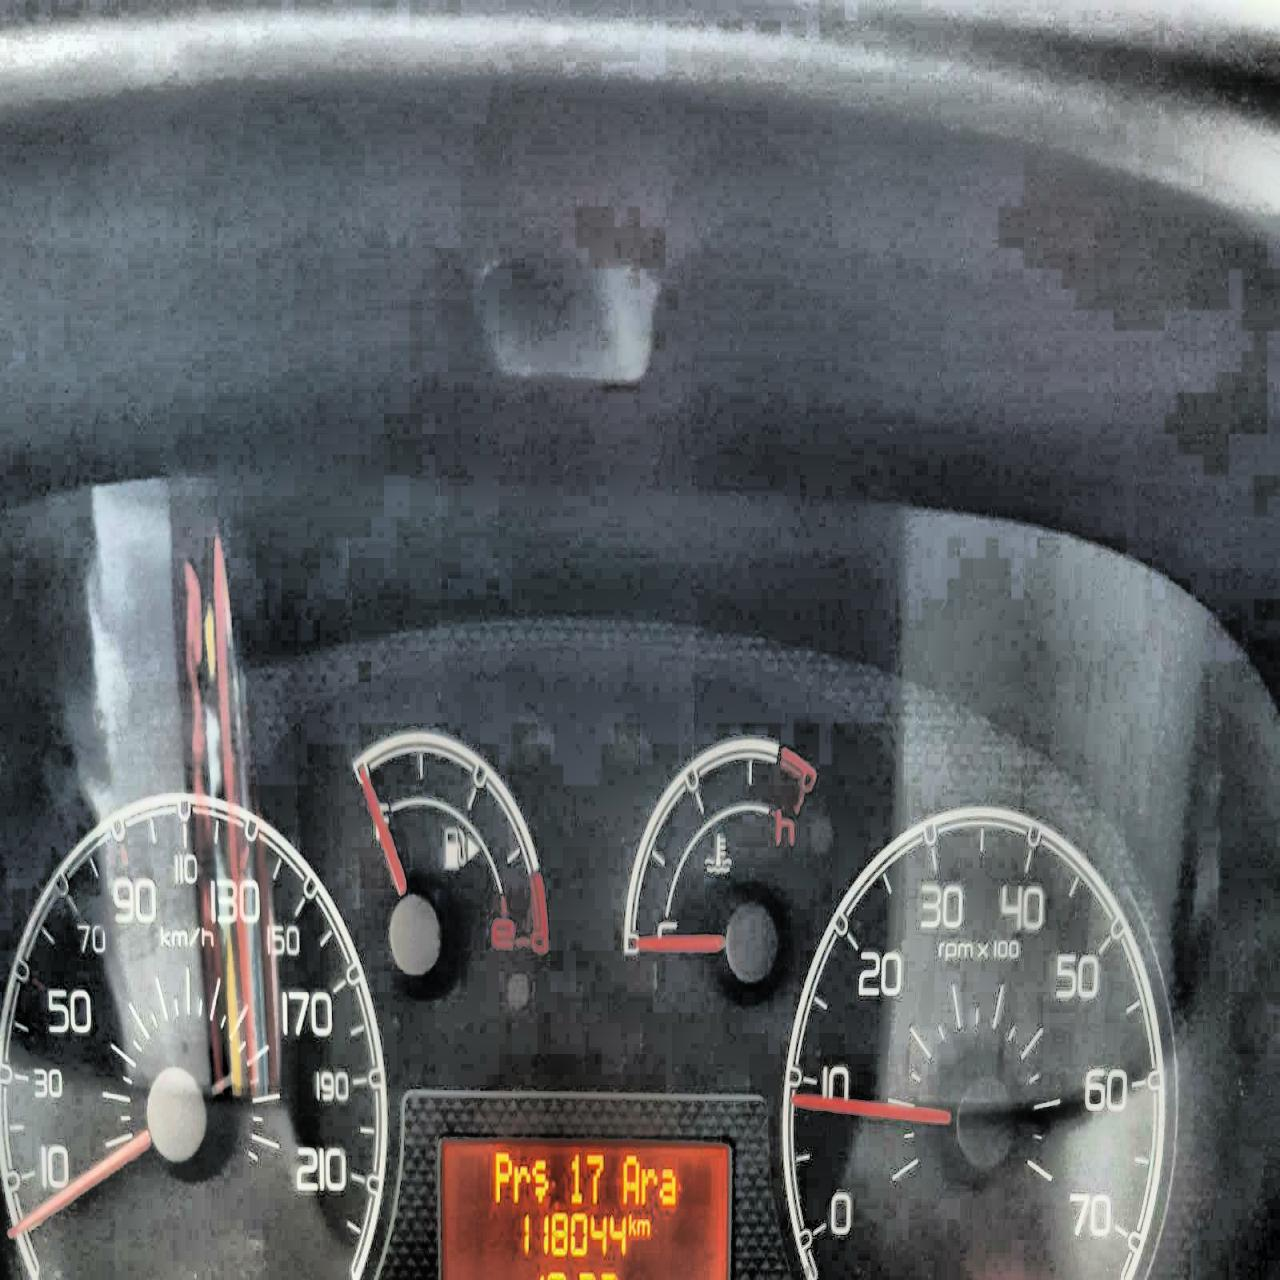0: (568, 1212, 587, 1257)
1: (570, 1152, 581, 1204), (523, 1213, 530, 1255), (542, 1213, 549, 1254)
4: (588, 1213, 607, 1257), (607, 1213, 626, 1257)
7: (586, 1152, 605, 1205)
8: (550, 1210, 568, 1257)
X: (493, 1151, 512, 1203), (621, 1153, 639, 1205), (530, 1158, 547, 1204), (658, 1167, 676, 1206), (640, 1166, 658, 1206), (512, 1165, 530, 1204), (635, 1217, 649, 1237), (627, 1213, 636, 1235)
odometer: (436, 1135, 734, 1279)
